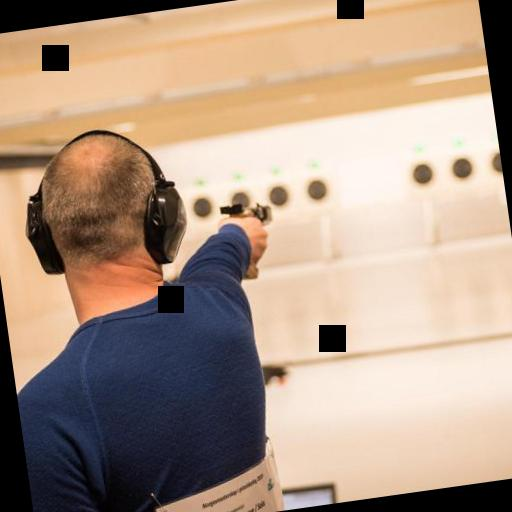Handgun: (217, 194, 274, 242)
